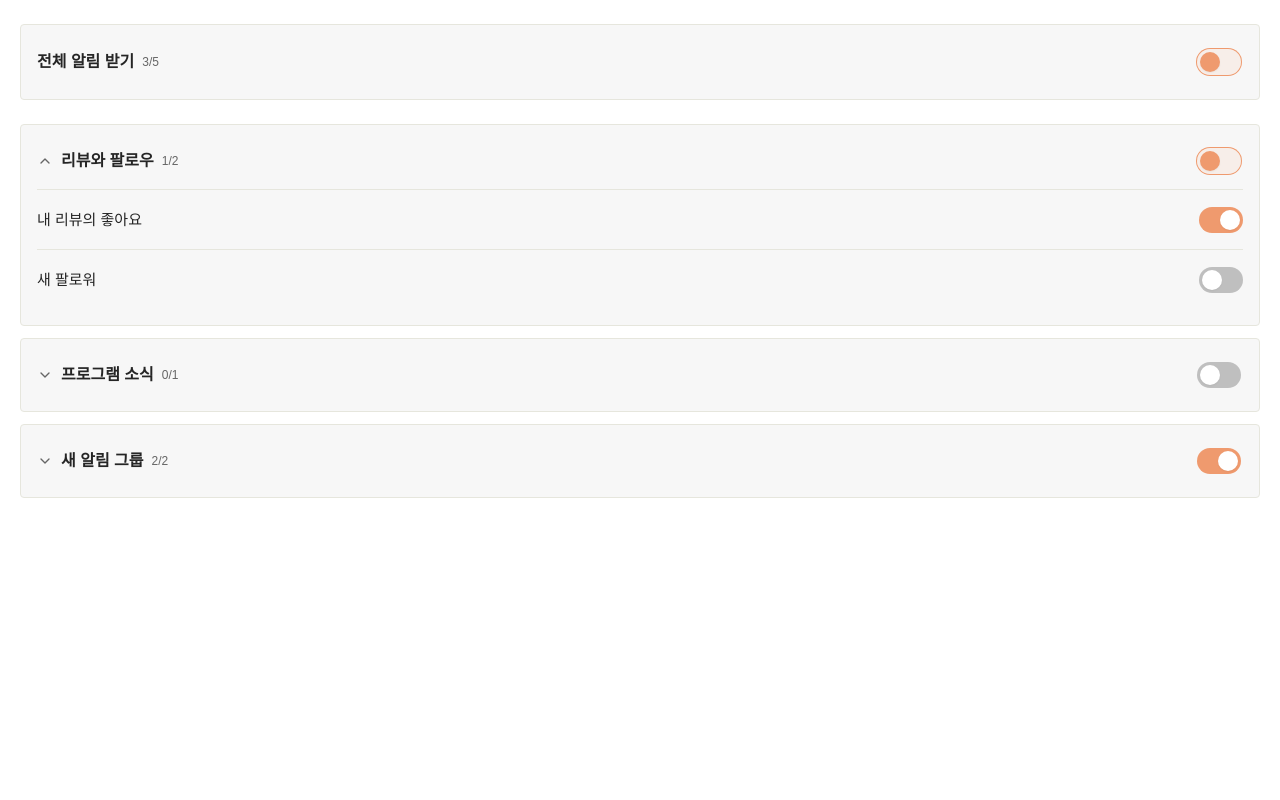
it: 알림 수신 설정 › 그룹과 항목 이름은 서버 표시명을 사용한다
Expected: the button with aria-label "프로그램 소식 펼치기" is shown, [37,353,1187,397]
Expected: the text "프로그램 소식" is shown, [61,365,154,385]
Click the button with aria-label "새 알림 그룹 펼치기".
click(102, 460)  # box [37,439,1187,483]
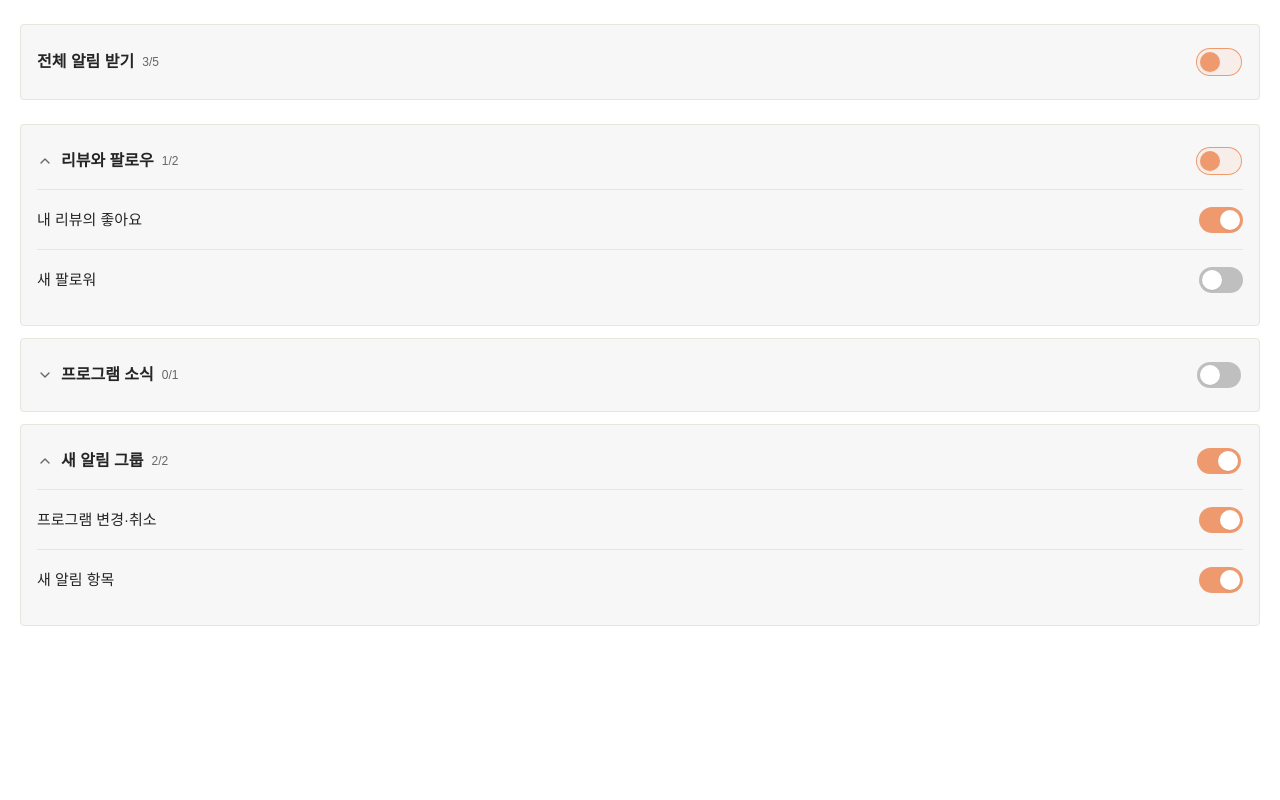
Expected: the switch labelled "새 알림 항목" is shown, [37,549,1243,609]
Expected: the switch labelled "프로그램 변경·취소" is shown, [37,489,1243,549]
